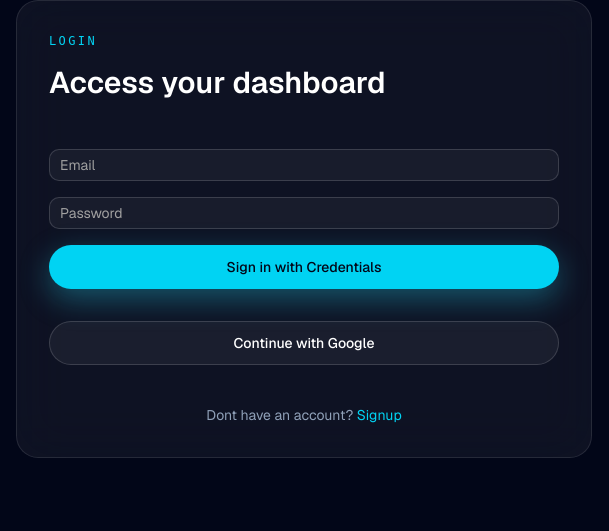
Test: LoginForm › shows validation error for empty email
Step 1. Click the button "Sign in with Credentials" → (304, 267), box 49,245 -> 559,289
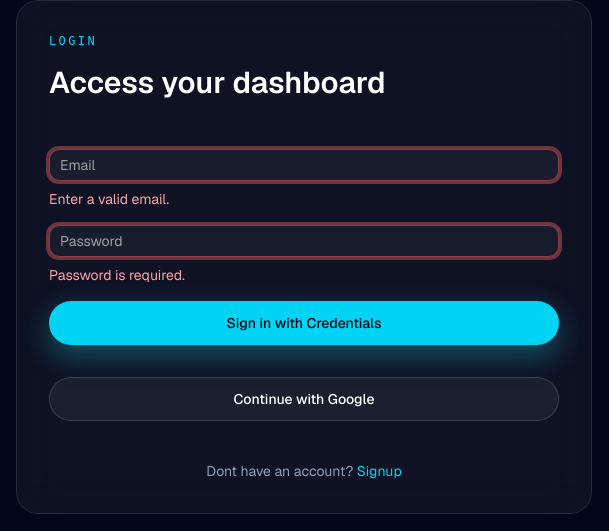
Expected: the text "Enter a valid email." is shown, 49,190 -> 169,208
